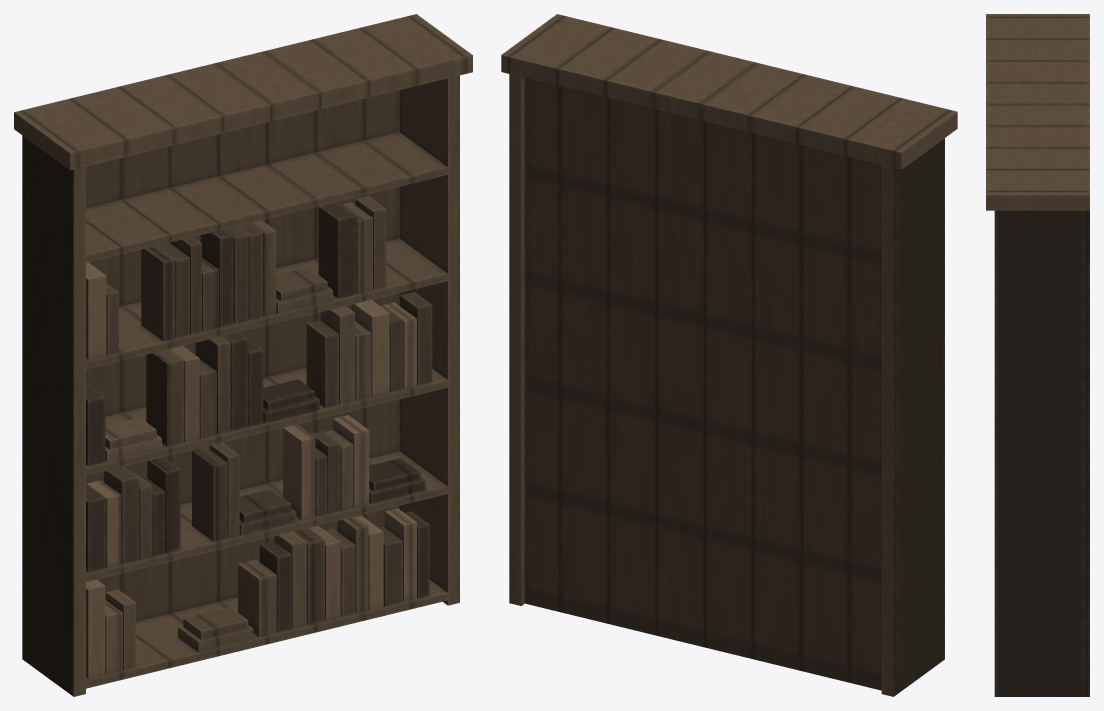
Rendered from bibliotheque.fbx.
3 views of the same model, side by side, from view 1: azimuth 30°, elevation 25°; view 2: azimuth 150°, elevation 25°; view 3: azimuth 270°, elevation 25° (orthographic). The views are drawn at different scales.
Visible parts, largest first — view 1: bibliotheque; view 2: bibliotheque; view 3: bibliotheque.
Boxes of the visible parts, x1,y1,x2,y2 form: bibliotheque: [14, 14, 472, 696]; bibliotheque: [501, 14, 957, 696]; bibliotheque: [986, 14, 1089, 696].
Size of the model in its own units: 1.98 by 2.58 by 0.48.
1 material, 1 textured.
